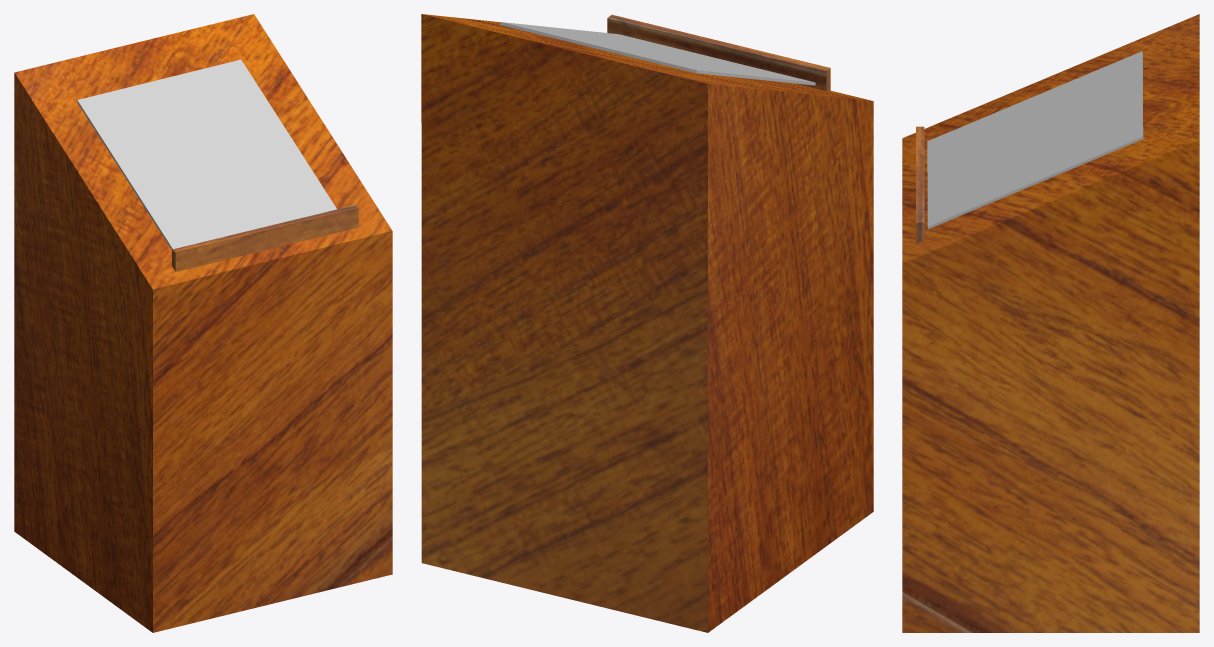
File: podest3.fbx
3 renders of one model, left to right at view 1: azimuth 30°, elevation 25°; view 2: azimuth 150°, elevation 25°; view 3: azimuth 270°, elevation 25°, orthographic. The views are drawn at different scales.
Visible parts, largest first — view 1: Desk, Paper; view 2: Desk, Paper; view 3: Desk, Paper.
Boxes of the visible parts, x1,y1,x2,y2 form: Desk: (14,14,392,632); Paper: (77,59,336,249); Desk: (421,14,873,632); Paper: (500,22,815,85); Desk: (902,14,1199,632); Paper: (927,51,1143,228).
Size of the model in its own units: 2000 by 3662 by 2000.
